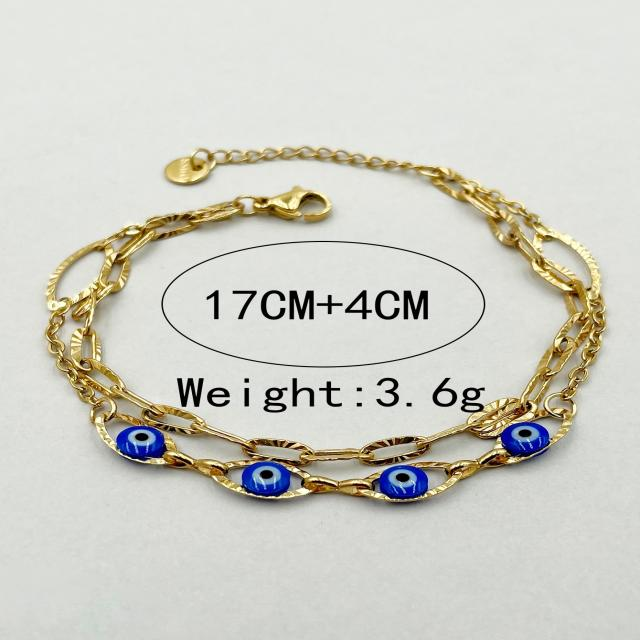bracelet: (0, 76, 640, 564)
